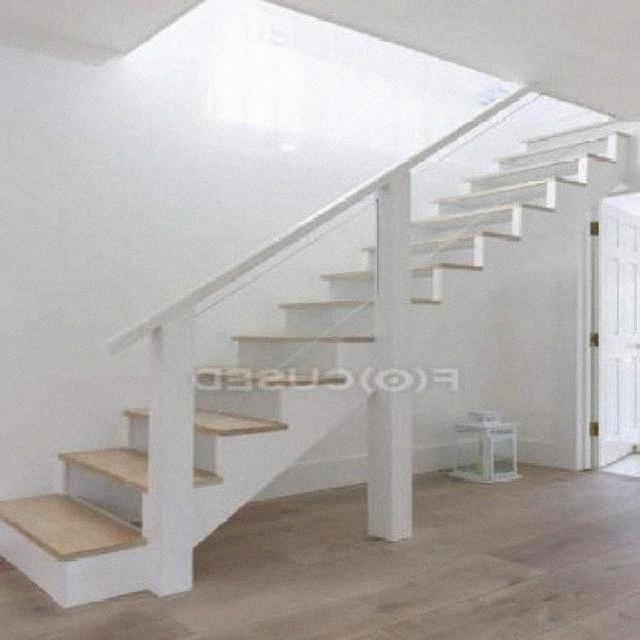stair: (2, 89, 630, 611)
